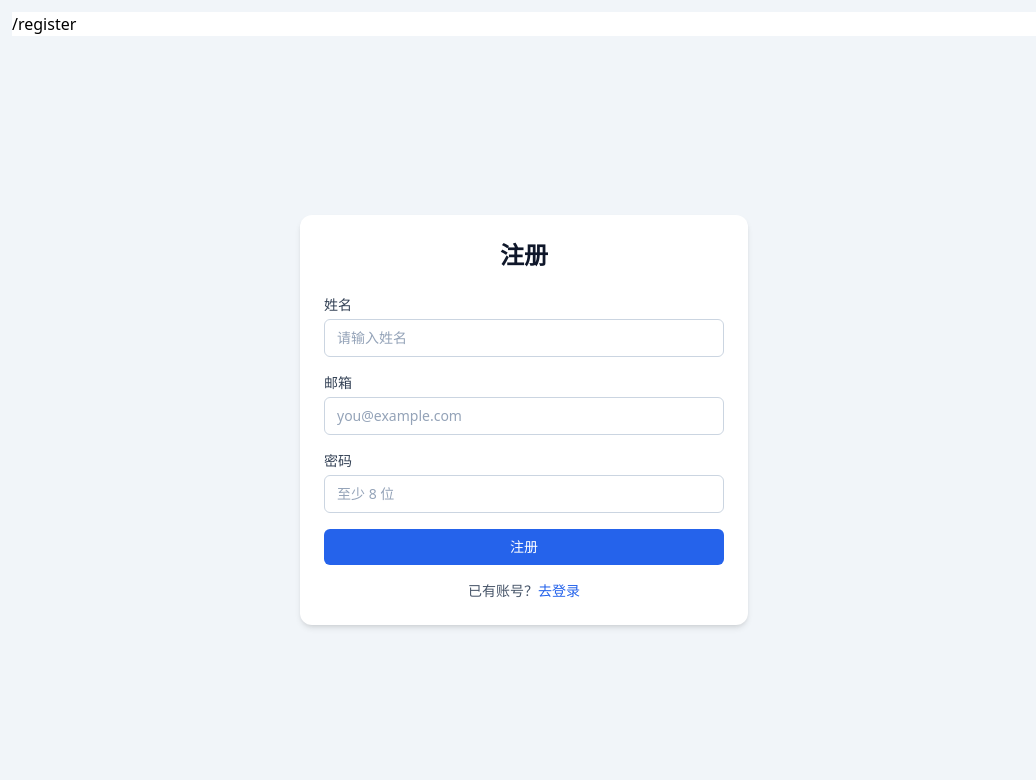
Test case: RegisterPage › 空提交时显示 zod 校验错误
The image size is (1036, 780).
Click the button "注册".
click(524, 547)  # box left=324, top=529, right=724, bottom=565
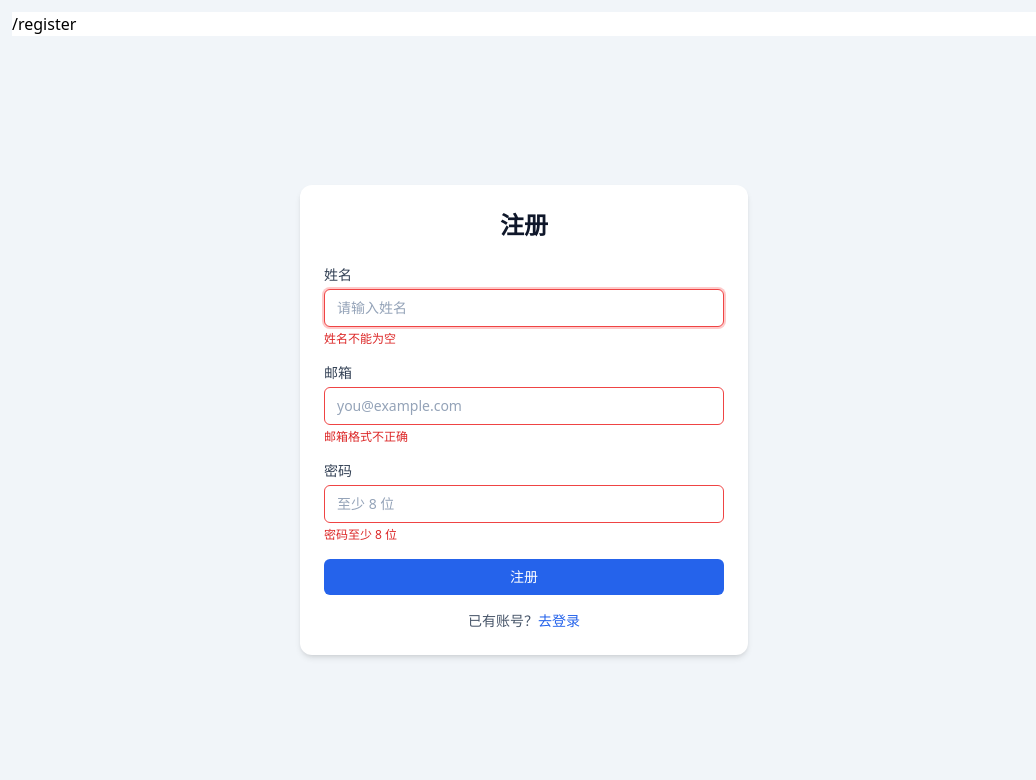
Now the text "姓名不能为空" is shown, box left=324, top=330, right=396, bottom=347
Now the text "邮箱格式不正确" is shown, box left=324, top=428, right=408, bottom=445
Now the text "密码至少 8 位" is shown, box left=324, top=526, right=397, bottom=543
